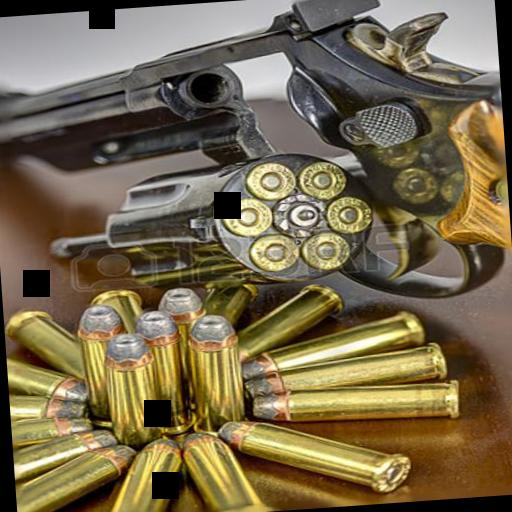Handgun: (0, 0, 510, 325)
